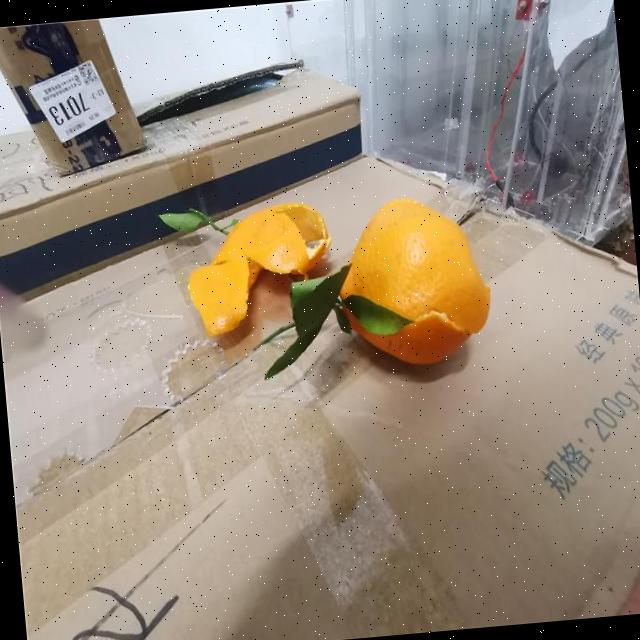orange-peel: (330, 188, 496, 372), (186, 152, 312, 379)
